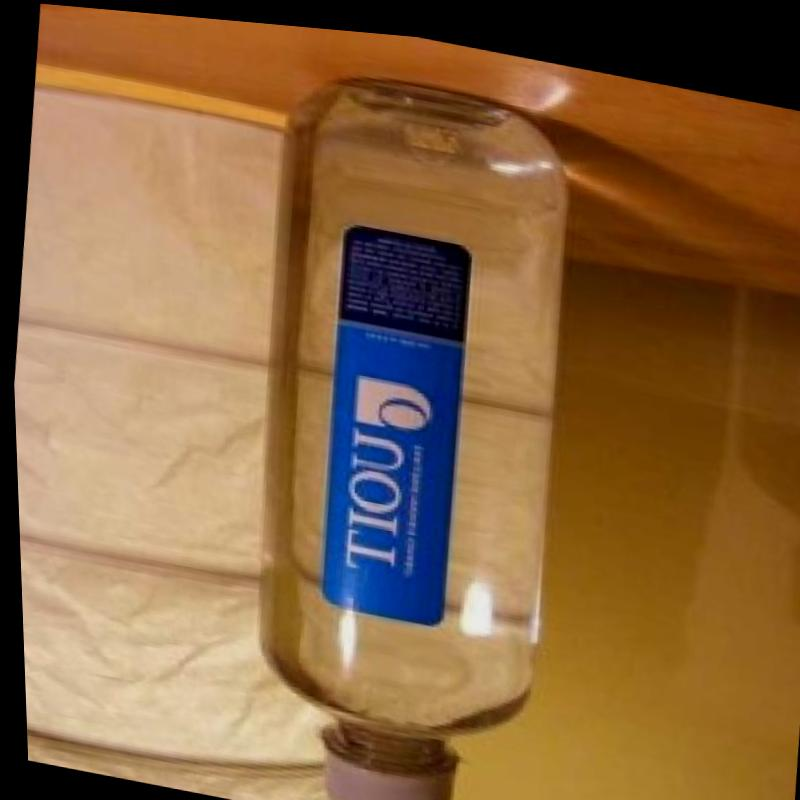botella: (217, 53, 601, 800)
